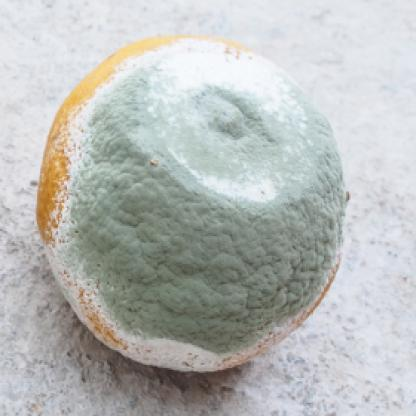rotten: (38, 37, 344, 376)
